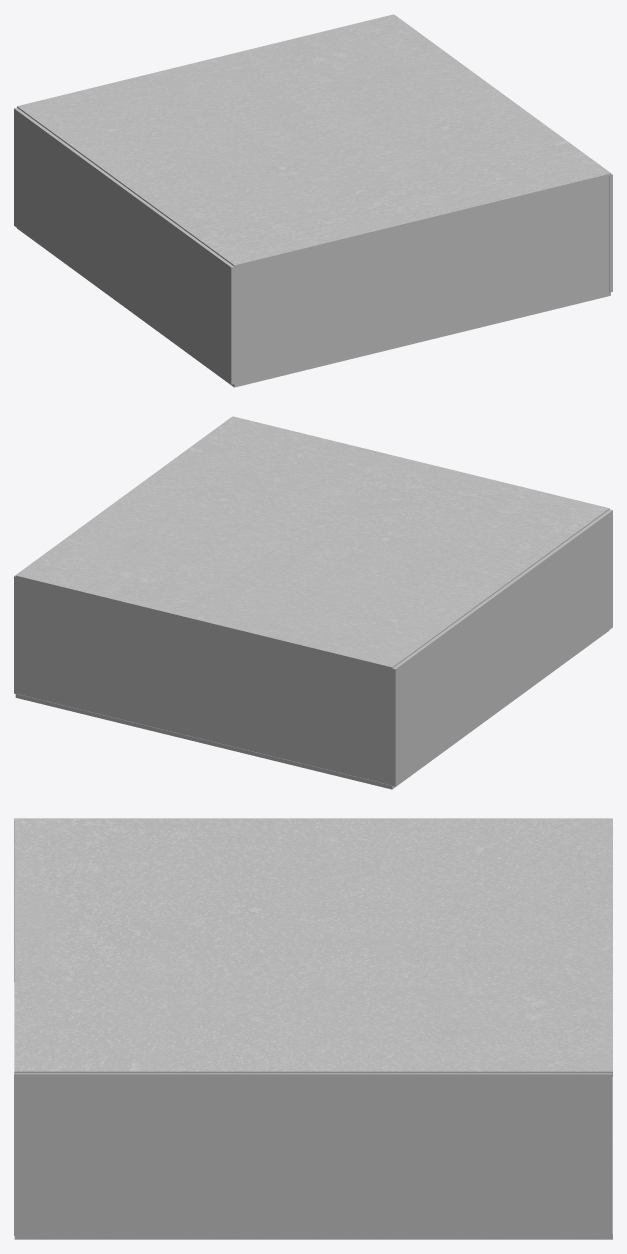
Rendered from room_menu1.fbx.
The picture shows the model from 3 angles, top to bottom: view 1: azimuth 30°, elevation 25°; view 2: azimuth 150°, elevation 25°; view 3: azimuth 270°, elevation 25°; orthographic projection. The views are drawn at different scales.
Parts seen in each view (by area): view 1: Cube.001, Cube.002, Cube.004, Cube, Cube.005; view 2: Cube.001, Cube.003, Cube.004, Cube, Cube.005; view 3: Cube.001, Cube.005, Cube, Cube.004.
Boxes of the visible parts, x1,y1,x2,y2 form: Cube.001: (17, 14, 610, 266); Cube.002: (235, 175, 608, 383); Cube.004: (14, 108, 235, 384); Cube: (17, 228, 610, 387); Cube.005: (395, 15, 612, 292); Cube.001: (15, 416, 609, 671); Cube.003: (17, 580, 391, 785); Cube.004: (391, 509, 612, 786); Cube: (15, 630, 609, 789); Cube.005: (14, 417, 231, 693); Cube.001: (14, 818, 612, 1076); Cube.005: (14, 1072, 612, 1235); Cube: (14, 1077, 612, 1239); Cube.004: (14, 818, 611, 981).
Bounding box in the file's own units: 1013 × 310 × 1001.
